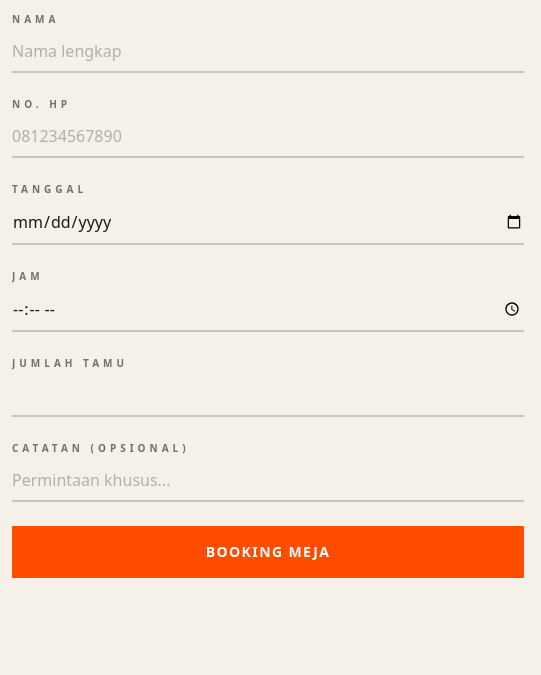
Test case: BookingForm › shows error for invalid phone
Type "Budi" into the field labelled "Nama". click: (268, 52)
box: [12,31,524,73]
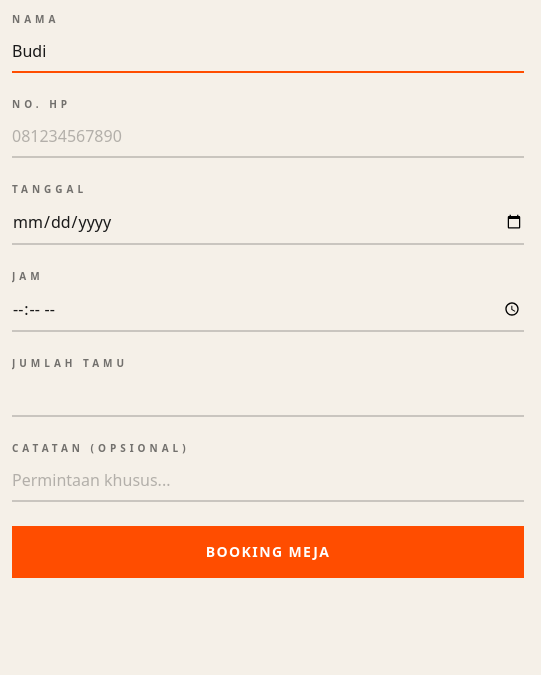
Type "abc" into the field labelled "No. HP". click: (268, 137)
box: [12,116,524,158]
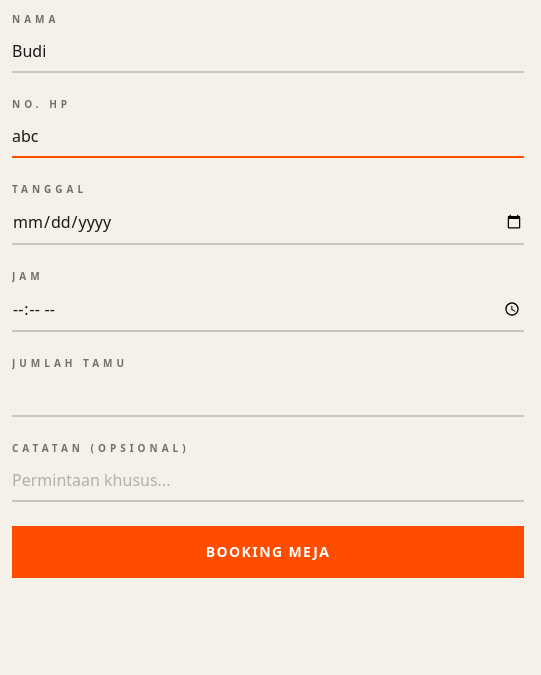
Click the button "Booking Meja". click: (268, 552)
box: [12,526,524,578]
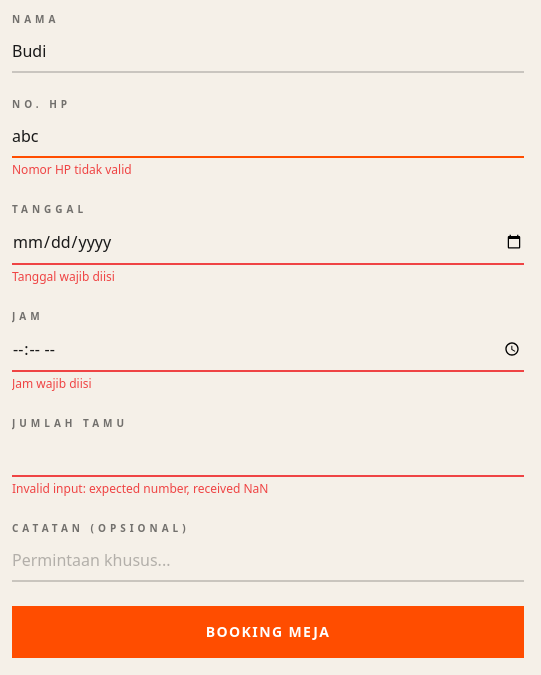
Result: the text "Nomor HP tidak valid" is shown at [12,161,132,178]
